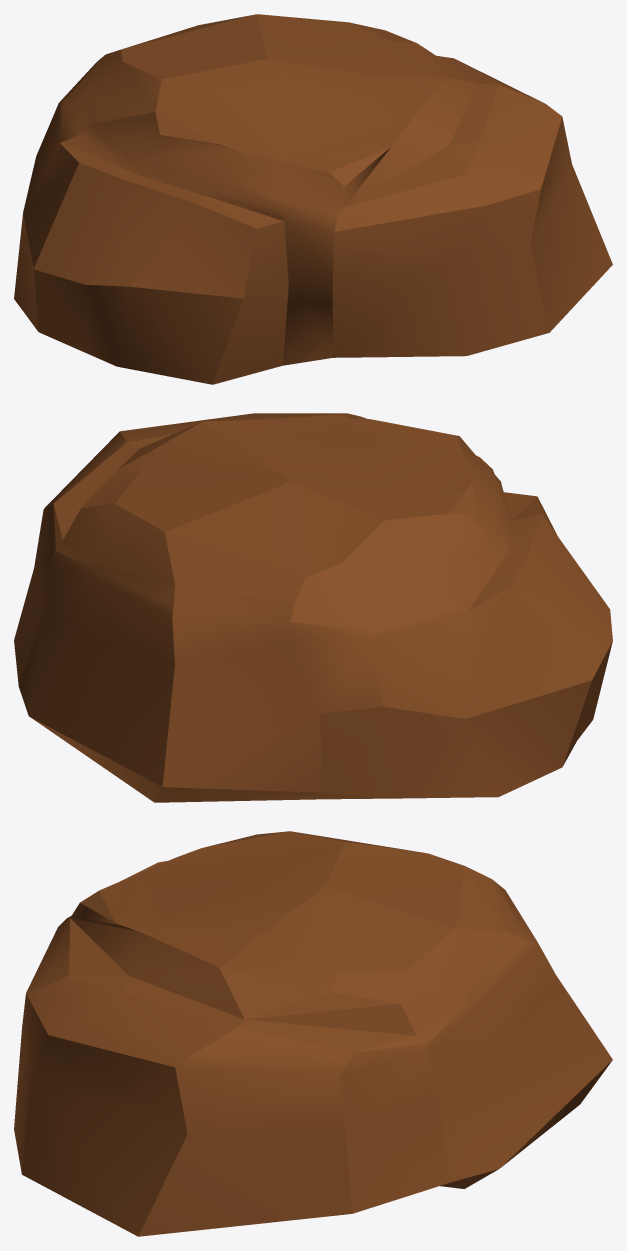
File: Rock_Large_1_Cube.obj
3 views of the same model, one above another, from view 1: azimuth 30°, elevation 25°; view 2: azimuth 150°, elevation 25°; view 3: azimuth 270°, elevation 25° (orthographic). The views are drawn at different scales.
Parts seen in each view (by area): view 1: Rock_Large_1_Cube.026; view 2: Rock_Large_1_Cube.026; view 3: Rock_Large_1_Cube.026.
Boxes of the visible parts, bbox=[...] form: Rock_Large_1_Cube.026: bbox=[14, 14, 612, 384]; Rock_Large_1_Cube.026: bbox=[14, 413, 612, 802]; Rock_Large_1_Cube.026: bbox=[14, 831, 612, 1236].
Size of the model in its own units: 7.67 by 3.29 by 7.33.
